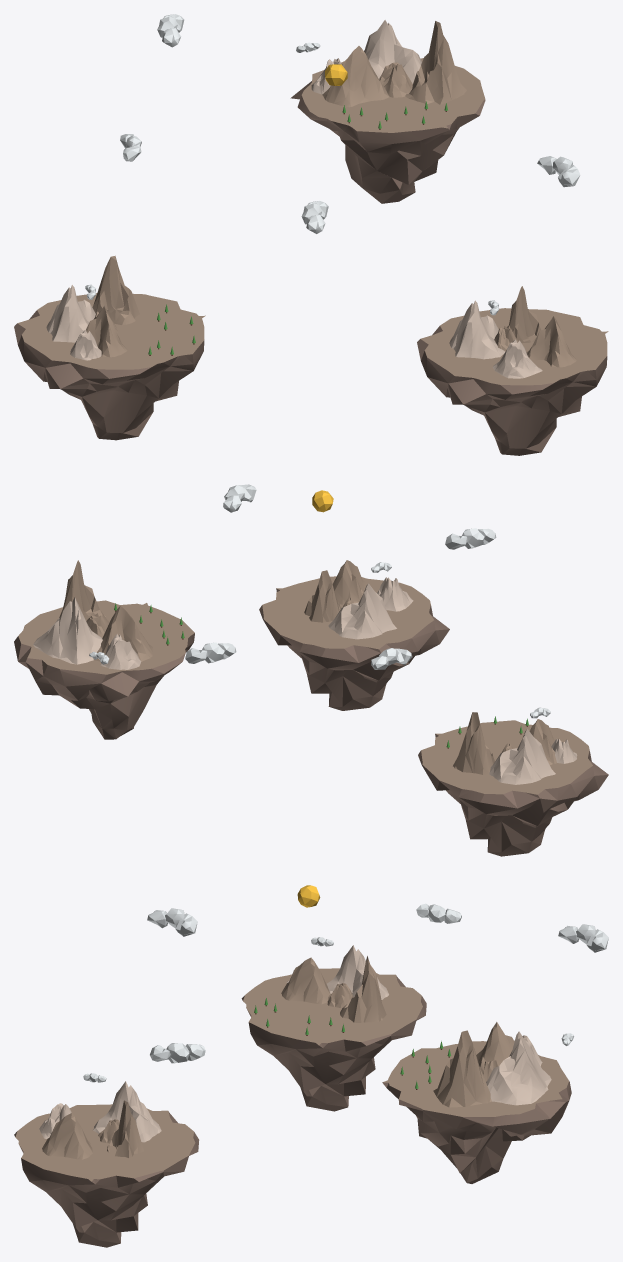
File: Low poly floating islands.gltf
3 renders of one model, top to bottom at view 1: azimuth 30°, elevation 25°; view 2: azimuth 150°, elevation 25°; view 3: azimuth 270°, elevation 25°, orthographic. The views are drawn at different scales.
Visible parts, largest first — view 1: island_sceneobj1-Mesh_1, island_sceneobj1-Mesh_3, island_sceneobj1-Mesh_2, island_sceneobj1-Mesh; view 2: island_sceneobj1-Mesh_1, island_sceneobj1-Mesh_3, island_sceneobj1-Mesh_2, island_sceneobj1-Mesh; view 3: island_sceneobj1-Mesh_1, island_sceneobj1-Mesh_3, island_sceneobj1-Mesh_2, island_sceneobj1-Mesh.
Part boxes in pixels (x1=…): island_sceneobj1-Mesh_1: x1=17, y1=21, x2=608, y2=385; island_sceneobj1-Mesh_3: x1=14, y1=81, x2=607, y2=455; island_sceneobj1-Mesh_2: x1=46, y1=20, x2=542, y2=378; island_sceneobj1-Mesh: x1=85, y1=14, x2=580, y2=315; island_sceneobj1-Mesh_1: x1=18, y1=560, x2=592, y2=794; island_sceneobj1-Mesh_3: x1=14, y1=588, x2=608, y2=856; island_sceneobj1-Mesh_2: x1=33, y1=577, x2=577, y2=784; island_sceneobj1-Mesh: x1=89, y1=484, x2=550, y2=718; island_sceneobj1-Mesh_1: x1=15, y1=956, x2=568, y2=1181; island_sceneobj1-Mesh_3: x1=14, y1=975, x2=571, y2=1247; island_sceneobj1-Mesh_2: x1=39, y1=945, x2=551, y2=1142; island_sceneobj1-Mesh: x1=83, y1=903, x2=608, y2=1082.
Size of the model in its own units: 1472 by 898 by 1503.
